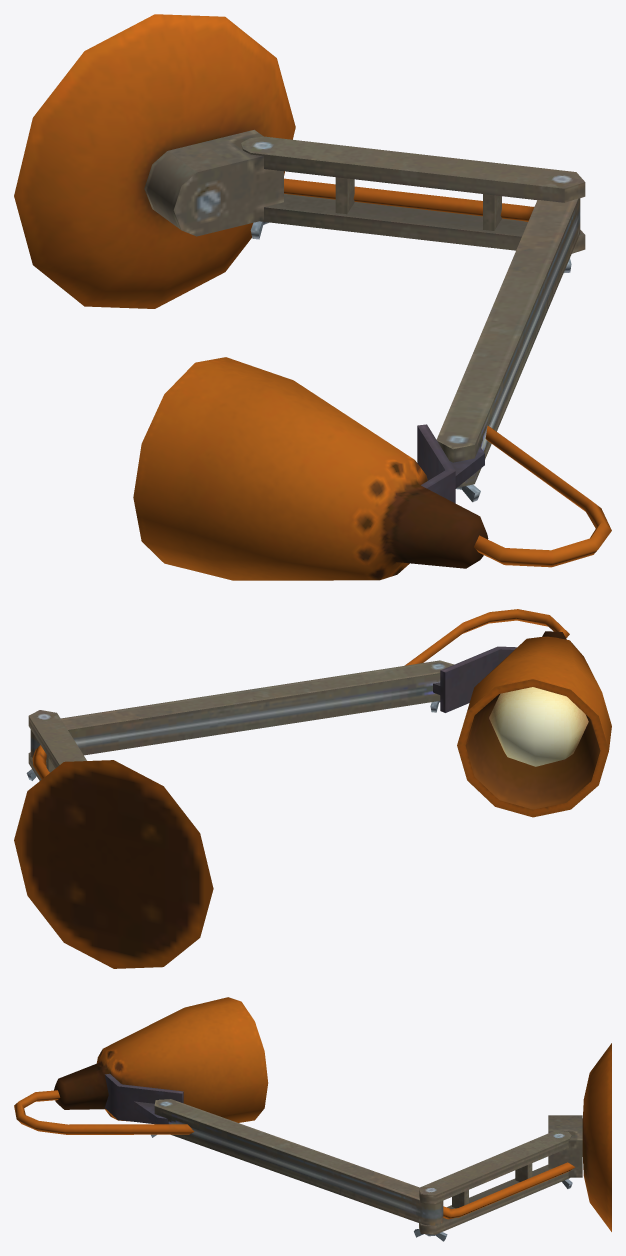
The model's file is nt_2020_lamp_desk_on_LOD0.obj.
3 views of the same model, one above another, from view 1: azimuth 30°, elevation 25°; view 2: azimuth 150°, elevation 25°; view 3: azimuth 270°, elevation 25° (orthographic). The views are drawn at different scales.
Parts seen in each view (by area): view 1: mtl_nt_2020_lamp_desk; view 2: mtl_nt_2020_lamp_desk, mtl_p_pent_lamp_bulb_on; view 3: mtl_nt_2020_lamp_desk.
Part boxes in pixels (box(x1,y1,x2,y2)): mtl_nt_2020_lamp_desk: box(14, 14, 611, 580); mtl_nt_2020_lamp_desk: box(14, 609, 611, 968); mtl_p_pent_lamp_bulb_on: box(489, 687, 588, 766); mtl_nt_2020_lamp_desk: box(14, 997, 611, 1241).
Bounding box in the file's own units: 43.35 × 19.35 × 60.69.
